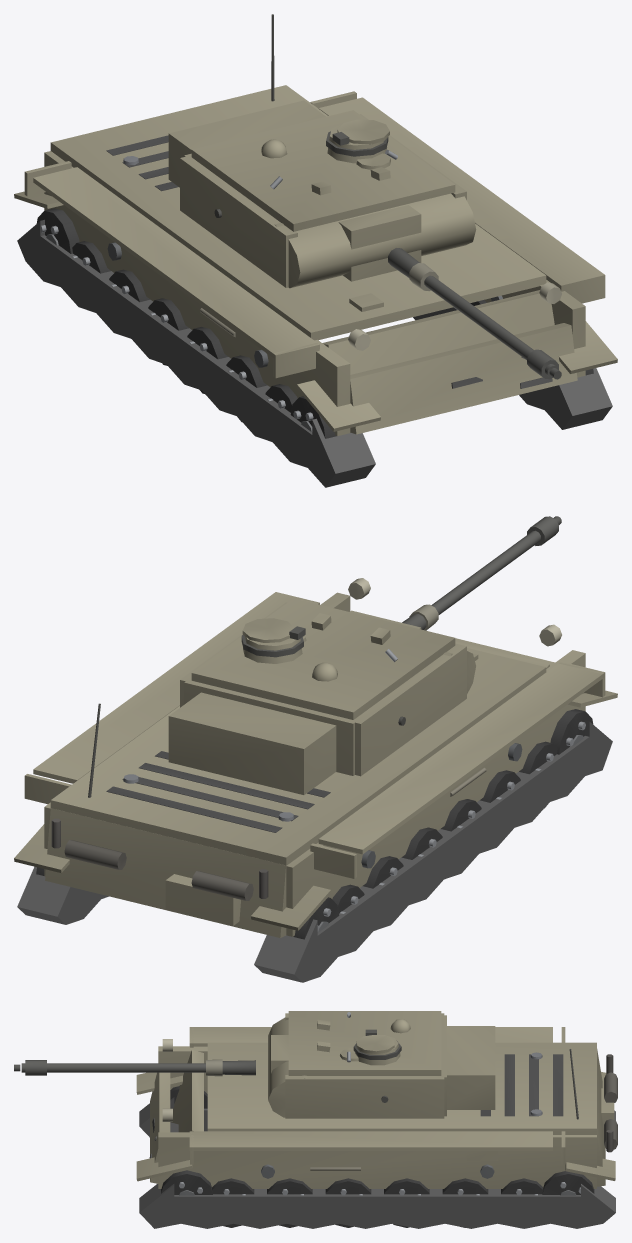
The model's file is type90.glb.
3 renders of one model, top to bottom at view 1: azimuth 30°, elevation 25°; view 2: azimuth 150°, elevation 25°; view 3: azimuth 270°, elevation 25°, orthographic. The views are drawn at different scales.
Visible parts, largest first — view 1: hullSide, hullTop, tracks, turretRoof, lowerPlate, turretFront, glacis, turretSide, barrel, mantlet, wheel7, wheel6 (+5 smaller); view 2: hullSide, hullTop, tracks, turretRoof, hullRear, turretFront, turretSide, barrel, turretRear, wheel6, wheel7, wheel1 (+4 smaller); view 3: hullSide, tracks, hullTop, turretRoof, turretSide, turretFront, barrel, hullRear, glacis, lowerPlate, wheel14, wheel15 (+8 smaller).
Part boxes in pixels (x1,y1,x2,y2): hullSide: (24, 91, 605, 436); hullTop: (50, 85, 546, 340); tracks: (14, 191, 617, 487); turretRoof: (191, 110, 455, 231); lowerPlate: (350, 323, 577, 434); turretFront: (168, 100, 476, 288); glacis: (322, 290, 554, 388); turretSide: (180, 114, 466, 287); barrel: (388, 248, 561, 379); mantlet: (338, 205, 421, 281); wheel7: (36, 208, 79, 253); wheel6: (290, 396, 336, 438); hullSide: (24, 578, 605, 936); hullTop: (50, 648, 546, 865); tracks: (14, 690, 617, 982); turretRoof: (191, 598, 455, 719); hullRear: (45, 703, 286, 937); turretFront: (168, 651, 475, 794); turretSide: (180, 602, 466, 776); barrel: (402, 516, 561, 630); turretRear: (184, 681, 359, 775); wheel6: (550, 709, 593, 754); wheel7: (293, 897, 339, 939); wheel1: (363, 856, 403, 888); hullSide: (158, 1027, 596, 1188); tracks: (136, 1072, 615, 1228); hullTop: (207, 1042, 596, 1134); turretRoof: (288, 1011, 441, 1075); turretSide: (285, 1013, 444, 1118); turretFront: (268, 1017, 495, 1117); barrel: (14, 1059, 255, 1076); hullRear: (569, 1049, 617, 1186); glacis: (149, 1050, 203, 1158); lowerPlate: (150, 1072, 170, 1183); wheel14: (161, 1170, 212, 1195); wheel15: (542, 1171, 594, 1195).
Size of the model in its own units: 4.48 by 2.82 by 9.5.
